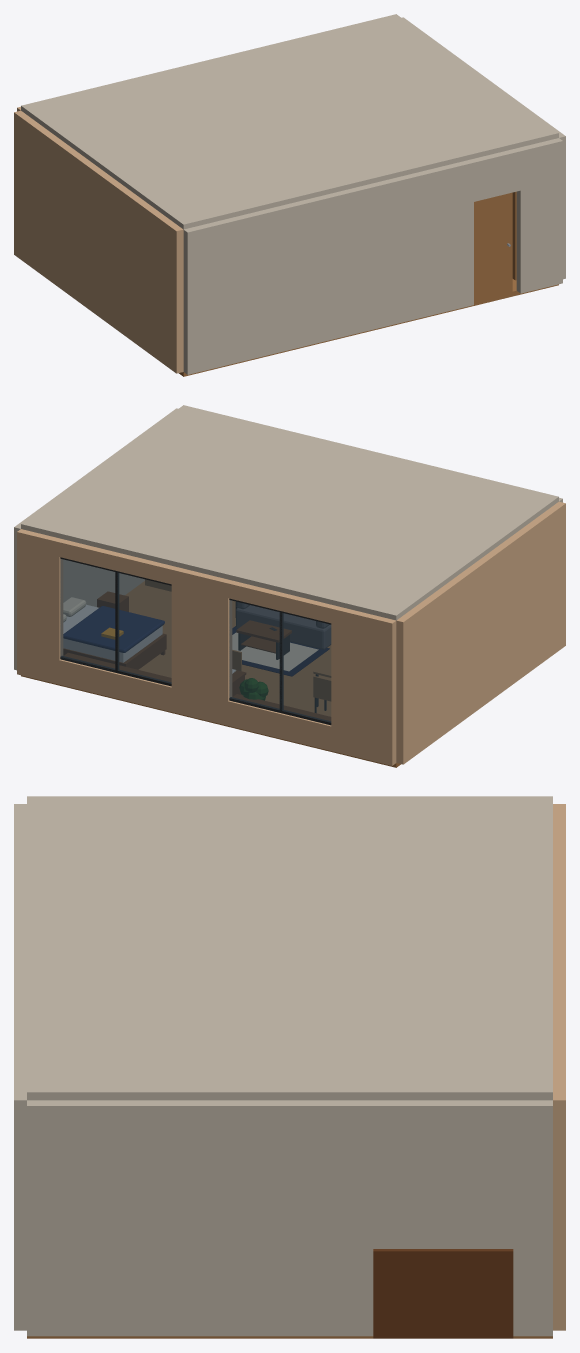
The model's file is ENV_REAL_StarterApartment.glb.
3 views of the same model, one above another, from view 1: azimuth 30°, elevation 25°; view 2: azimuth 150°, elevation 25°; view 3: azimuth 270°, elevation 25° (orthographic). The views are drawn at different scales.
Visible parts, largest first — view 1: ENV_REAL_StarterApartment_Shell, PROP_REAL_Door_ApartmentEntry; view 2: ENV_REAL_StarterApartment_Shell, PROP_REAL_Bed_Starter, PROP_REAL_Couch_Starter, PROP_REAL_Rug, PROP_REAL_CoffeeTable, PROP_REAL_HousePlant_01, PROP_REAL_Chair_02; view 3: ENV_REAL_StarterApartment_Shell, PROP_REAL_Bed_Starter.
Boxes of the visible parts, x1=… form: ENV_REAL_StarterApartment_Shell: x1=14, y1=14, x2=565, y2=376; PROP_REAL_Door_ApartmentEntry: x1=474, y1=192, x2=512, y2=301; ENV_REAL_StarterApartment_Shell: x1=14, y1=405, x2=565, y2=767; PROP_REAL_Bed_Starter: x1=63, y1=597, x2=166, y2=669; PROP_REAL_Couch_Starter: x1=236, y1=602, x2=330, y2=649; PROP_REAL_Rug: x1=232, y1=626, x2=329, y2=676; PROP_REAL_CoffeeTable: x1=236, y1=620, x2=291, y2=659; PROP_REAL_HousePlant_01: x1=239, y1=678, x2=268, y2=700; PROP_REAL_Chair_02: x1=313, y1=676, x2=330, y2=712; ENV_REAL_StarterApartment_Shell: x1=14, y1=796, x2=565, y2=1338; PROP_REAL_Bed_Starter: x1=373, y1=1249, x2=513, y2=1338.
Size of the model in its own units: 8.37 by 3.1 by 6.3.
